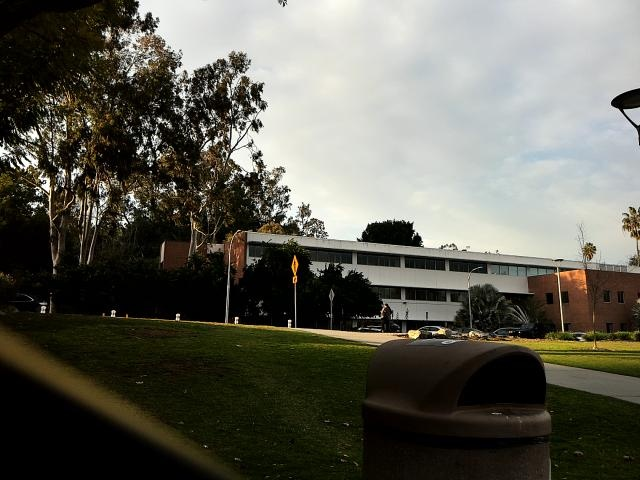trashcan: (364, 333, 547, 480)
